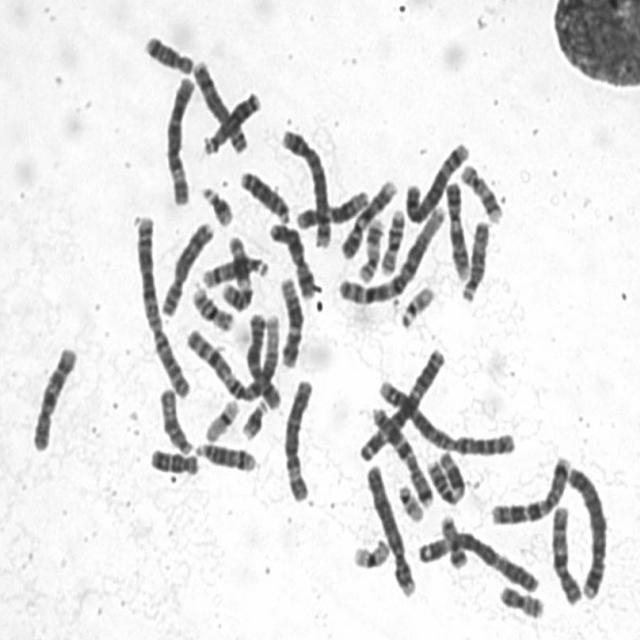A1: (333, 201, 448, 307), (184, 309, 285, 406)
A2: (373, 374, 518, 460), (132, 210, 194, 400)
A3: (356, 342, 448, 464), (413, 526, 541, 594)
B4: (363, 458, 417, 598), (562, 461, 608, 602)
B5: (278, 123, 334, 251), (402, 137, 472, 225)
C10: (28, 339, 80, 454), (547, 499, 584, 606)
C11: (216, 229, 254, 313), (422, 447, 468, 508)
C12: (294, 184, 371, 230), (276, 271, 306, 369)
C6: (161, 69, 198, 208), (279, 373, 316, 503)
C7: (368, 398, 437, 509), (487, 449, 574, 526)
C8: (189, 54, 251, 156), (156, 215, 214, 318)
C9: (337, 174, 399, 261), (442, 176, 472, 282)
D13: (199, 86, 263, 157), (236, 165, 292, 224)
D14: (199, 251, 270, 289), (192, 436, 259, 474)
D15: (458, 214, 492, 305), (156, 383, 195, 457)
E16: (188, 280, 237, 332), (378, 204, 408, 276)
E17: (458, 158, 505, 225), (354, 213, 385, 285)
E18: (140, 30, 196, 76), (147, 443, 202, 477)
F19: (201, 394, 242, 444), (349, 533, 392, 571)
F20: (495, 580, 547, 621), (437, 510, 469, 570)
G21: (198, 180, 236, 228), (238, 394, 270, 442)
G22: (396, 279, 436, 329), (395, 479, 426, 524)
X: (266, 215, 319, 302), (243, 308, 283, 409)
